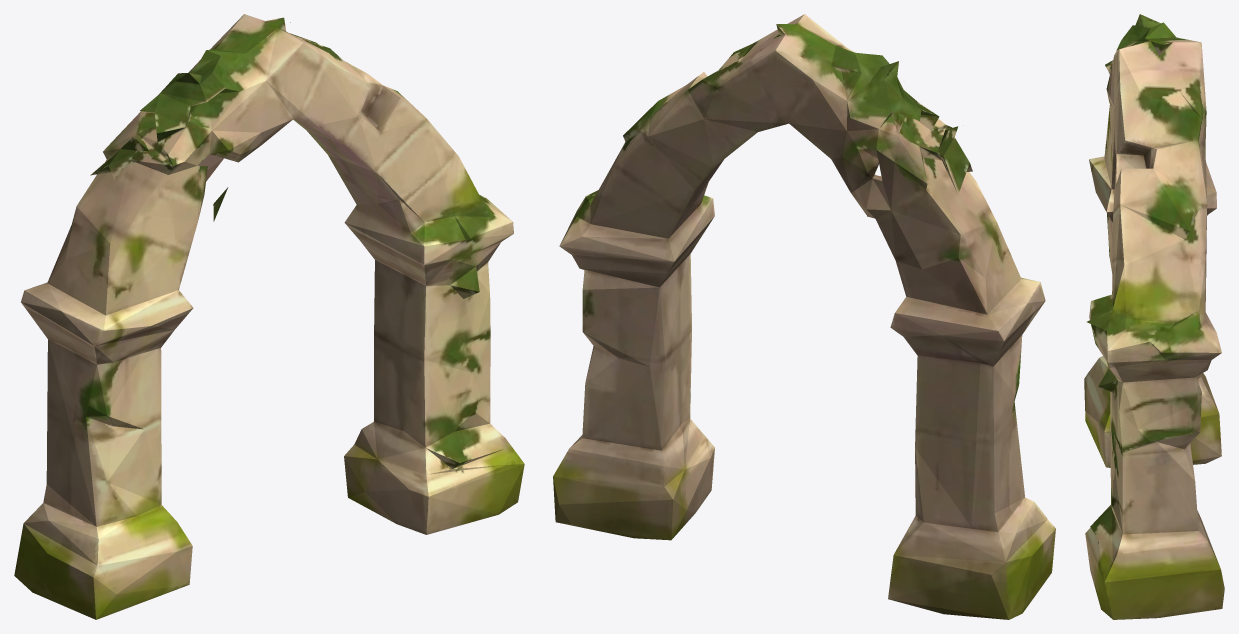
Rendered from ruin-arch.glb.
3 renders of one model, left to right at view 1: azimuth 30°, elevation 25°; view 2: azimuth 150°, elevation 25°; view 3: azimuth 270°, elevation 25°, orthographic. The views are drawn at different scales.
Parts seen in each view (by area): view 1: ruin-arch; view 2: ruin-arch; view 3: ruin-arch.
Boxes of the visible parts, box(x1,y1,x2,y2) form: ruin-arch: box(14, 14, 524, 619); ruin-arch: box(553, 14, 1055, 619); ruin-arch: box(1084, 14, 1224, 619).
Bounding box in the file's own units: 4.64 × 5.01 × 1.32.
Materials: 1 (1 with a texture image).
